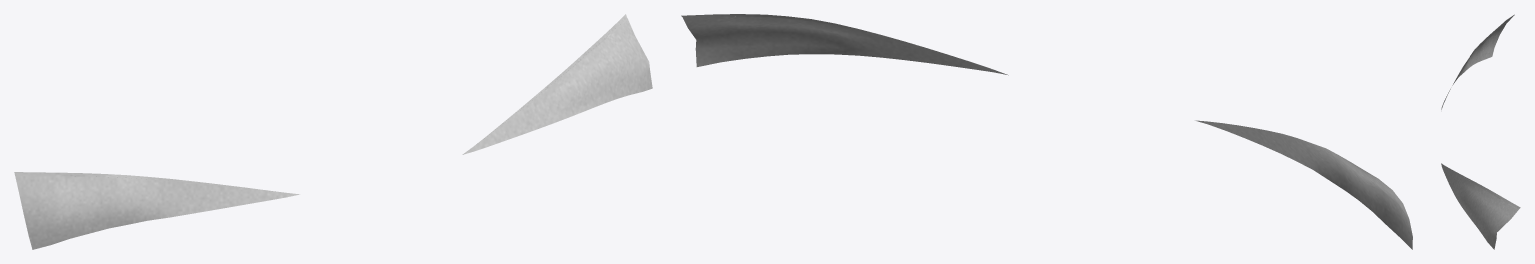
The model's file is COP_Bust_V2.glb.
3 renders of one model, left to right at view 1: azimuth 30°, elevation 25°; view 2: azimuth 150°, elevation 25°; view 3: azimuth 270°, elevation 25°, orthographic. The views are drawn at different scales.
Visible parts, largest first — view 1: COP_Bust_V21, Rope1; view 2: COP_Bust_V21; view 3: COP_Bust_V21, Rope1.
Part boxes in pixels (x1=…): COP_Bust_V21: x1=14, y1=14, x2=652, y2=249; Rope1: x1=15, y1=18, x2=627, y2=192; COP_Bust_V21: x1=681, y1=14, x2=1412, y2=249; COP_Bust_V21: x1=1441, y1=14, x2=1520, y2=249; Rope1: x1=1445, y1=44, x2=1518, y2=209.
Size of the model in its own units: 0.7276 by 0.0778 by 0.1229.
Materials: 2 (2 with a texture image).
